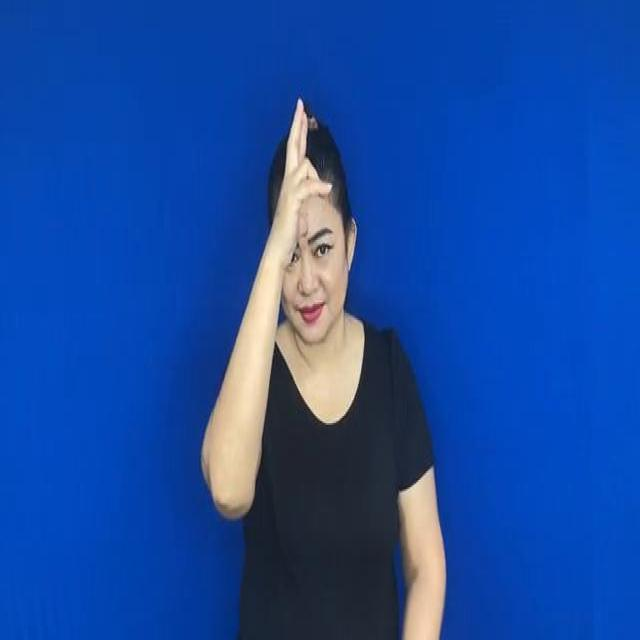chicken: (265, 98, 331, 237)
